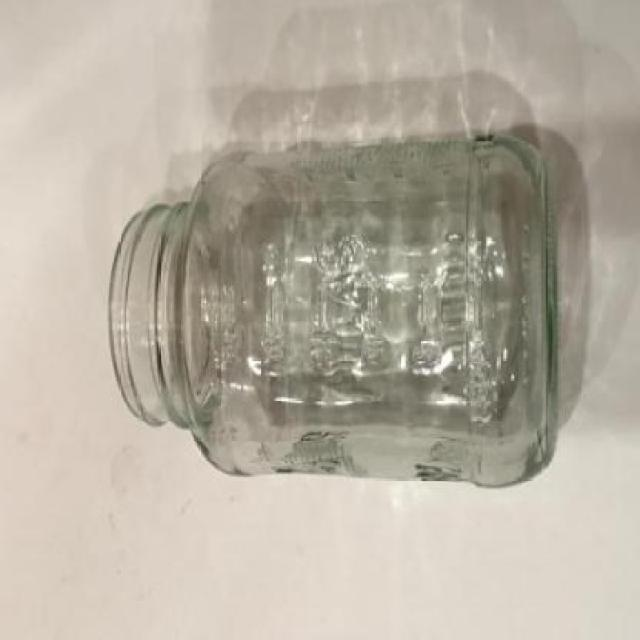GLASS: (108, 134, 552, 492)
